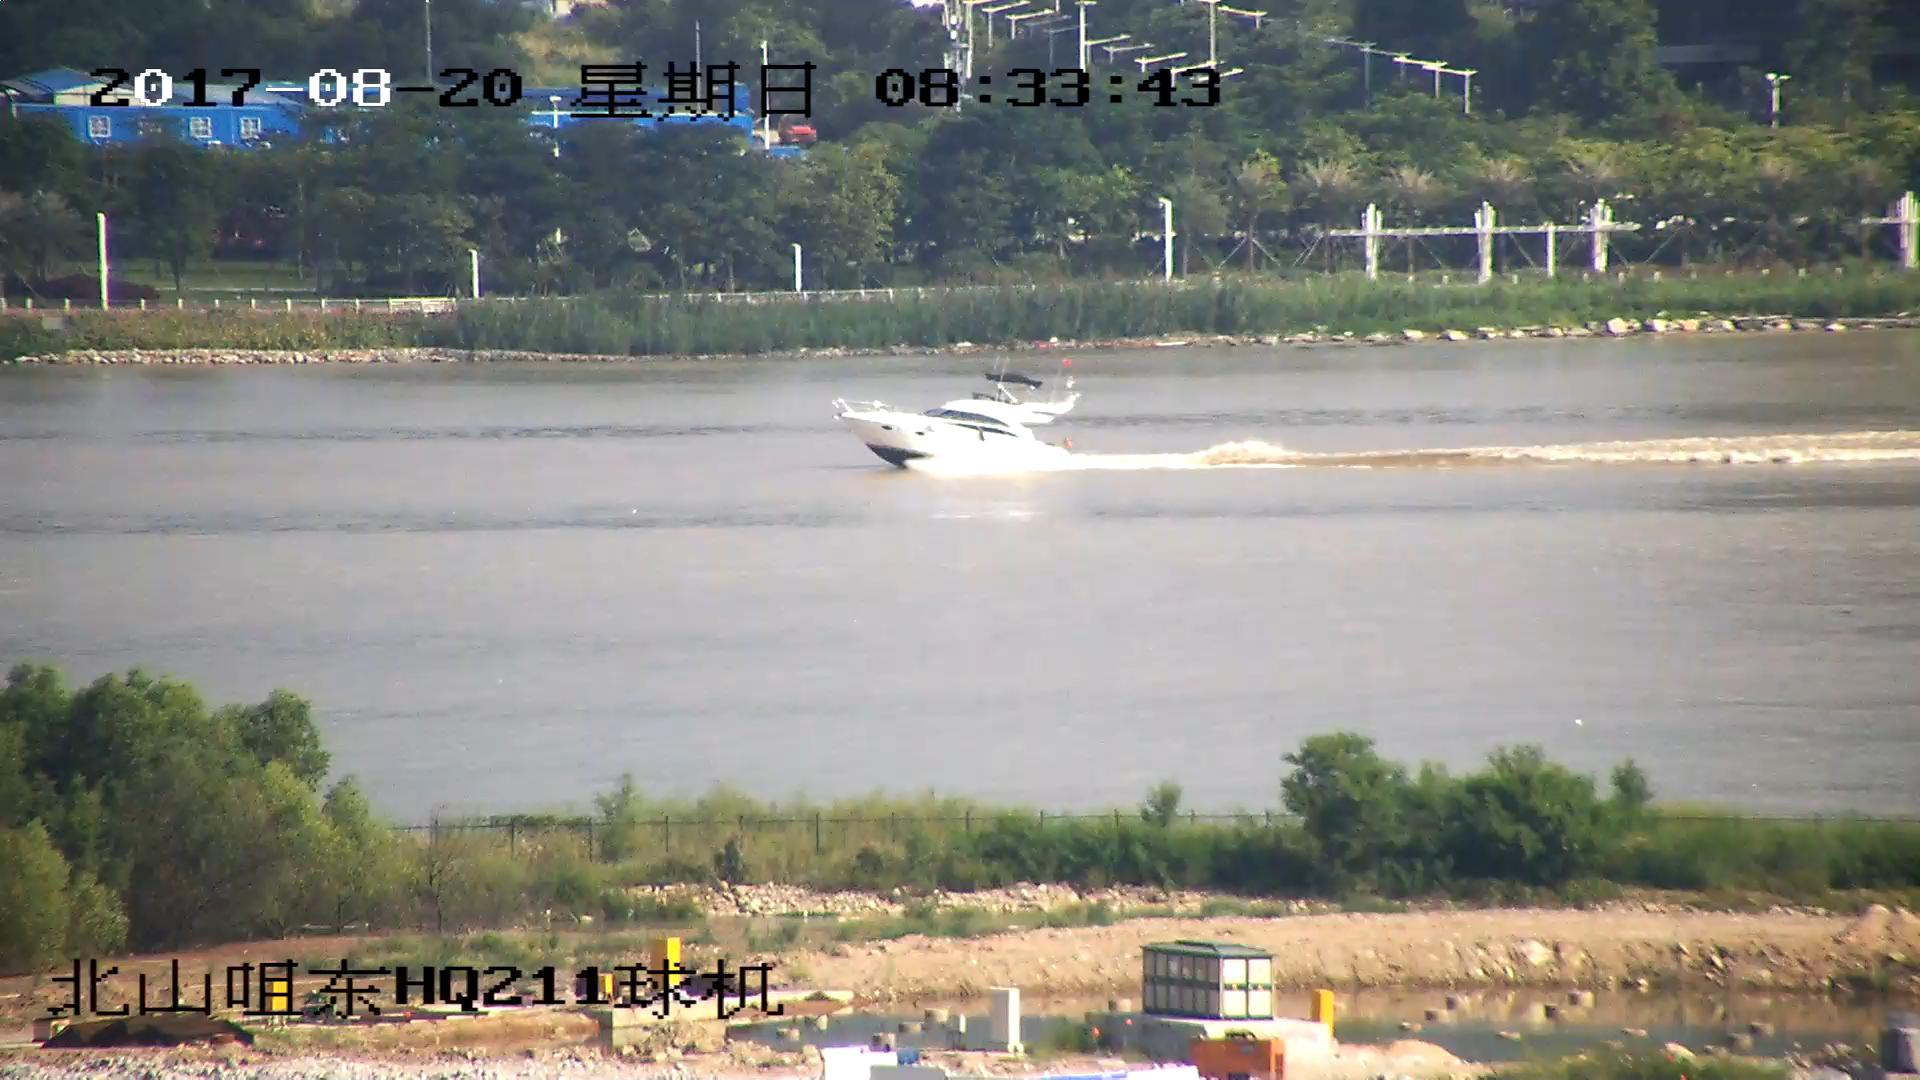passenger ship: (831, 373, 1086, 465)
